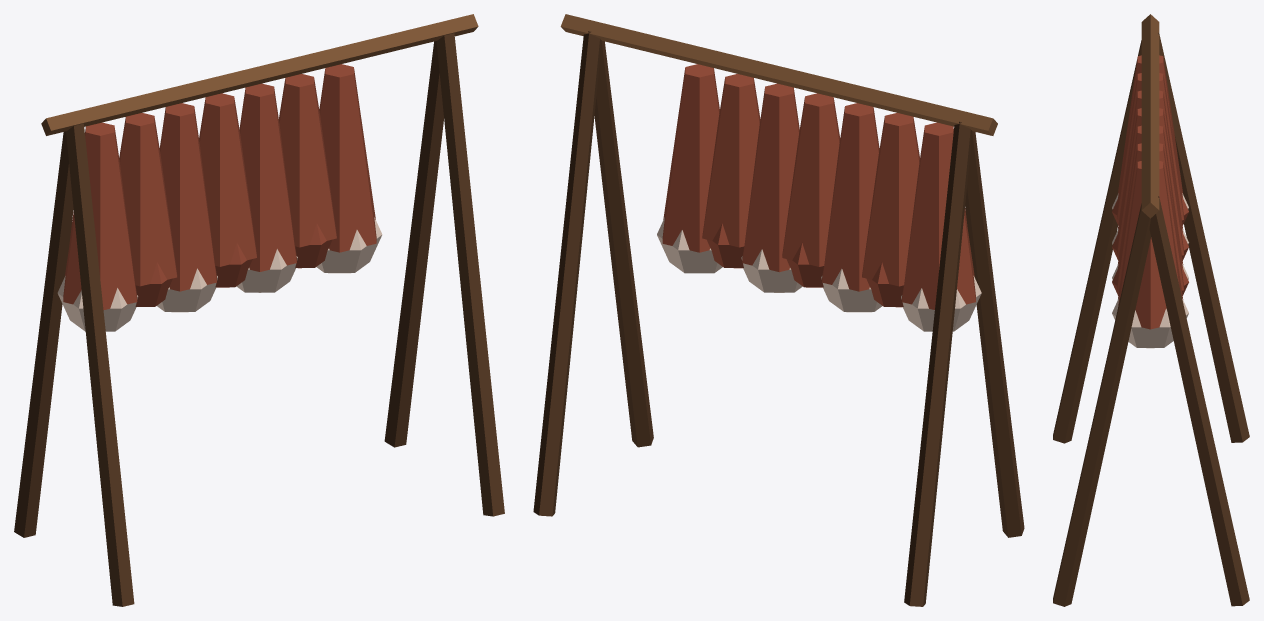
Rendered from pile_meat_2.glb.
3 renders of one model, left to right at view 1: azimuth 30°, elevation 25°; view 2: azimuth 150°, elevation 25°; view 3: azimuth 270°, elevation 25°, orthographic. The views are drawn at different scales.
Parts seen in each view (by area): view 1: pile_meat_2; view 2: pile_meat_2; view 3: pile_meat_2.
Part boxes in pixels (x1=…): pile_meat_2: x1=14, y1=14, x2=504, y2=606; pile_meat_2: x1=533, y1=14, x2=1024, y2=606; pile_meat_2: x1=1053, y1=14, x2=1249, y2=606.
Bounding box in the file's own units: 1.5 × 1.54 × 0.6621.
